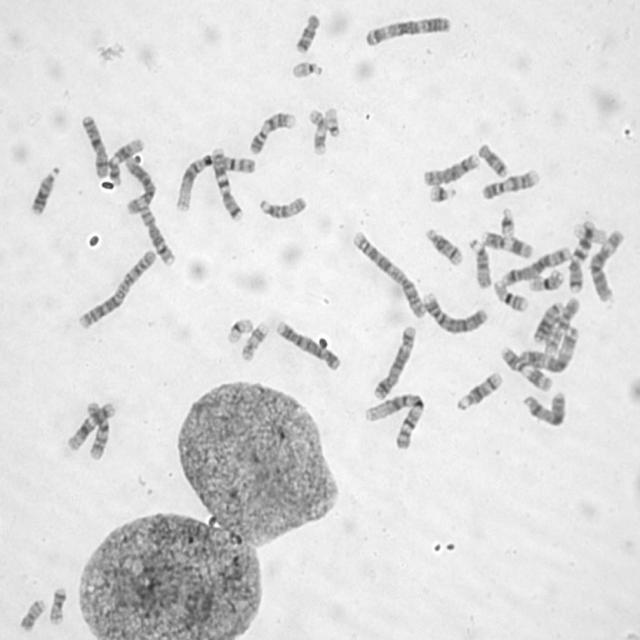A1: (172, 150, 256, 215), (362, 390, 427, 451)
A2: (350, 227, 427, 320), (75, 246, 158, 331)
A3: (361, 12, 453, 48), (516, 323, 580, 373)
B4: (274, 318, 343, 372), (421, 288, 489, 336)
B5: (371, 322, 418, 401), (499, 243, 572, 288)
C10: (542, 294, 582, 356), (83, 398, 113, 461)
C11: (498, 343, 555, 392), (479, 228, 534, 260)
C12: (64, 398, 117, 452), (106, 134, 144, 186)
C6: (587, 227, 627, 303), (122, 154, 156, 216)
C7: (208, 144, 245, 222), (566, 219, 596, 294)
C8: (137, 203, 177, 268), (420, 150, 481, 188)
C9: (246, 109, 298, 156), (479, 167, 541, 200)
D13: (28, 162, 60, 216), (531, 298, 563, 344)
D14: (453, 368, 504, 414), (423, 224, 465, 268)
D15: (256, 191, 308, 223), (467, 236, 493, 290)
E16: (491, 276, 530, 313), (525, 265, 565, 293)
E17: (238, 318, 269, 362), (308, 105, 328, 157)
E18: (476, 140, 509, 178), (293, 11, 321, 54)
F19: (571, 218, 609, 244), (225, 315, 254, 344)
F20: (16, 597, 47, 632), (47, 584, 68, 626)
G21: (427, 181, 458, 204), (498, 205, 516, 238)
G22: (290, 58, 324, 79), (323, 104, 342, 138)
X: (79, 112, 110, 178), (520, 387, 568, 429)
